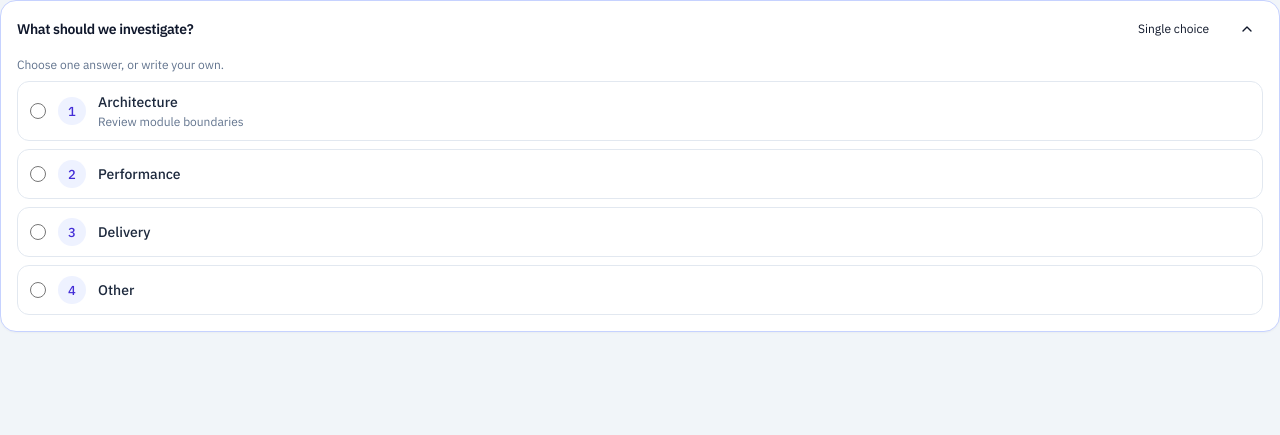
Scenario: keeps an explicit Other option editable even on a legacy card without allowCustom
Click the radio button labelled "Other": (38, 290) [30,282,46,298]
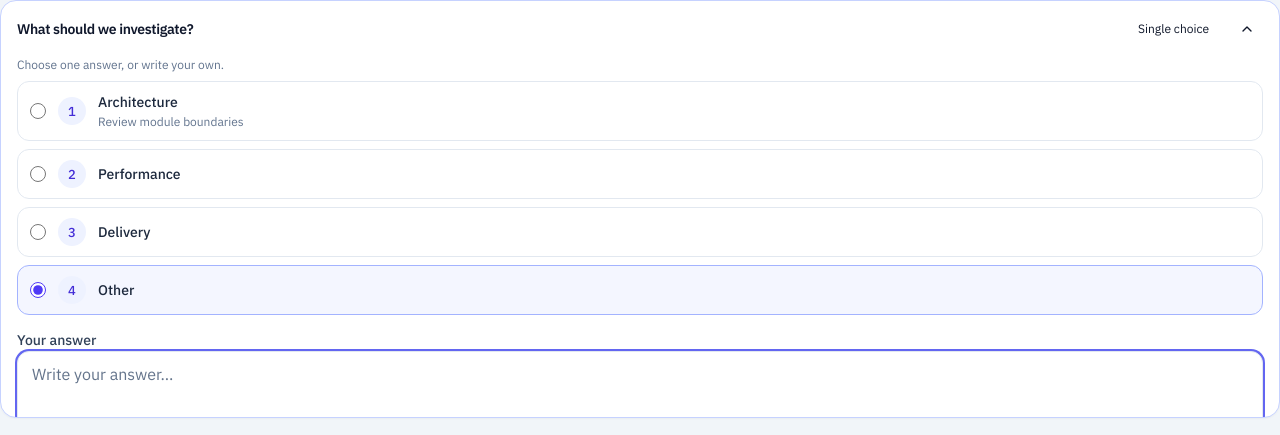
Expected: the text box is shown, [17,351,1263,417]
